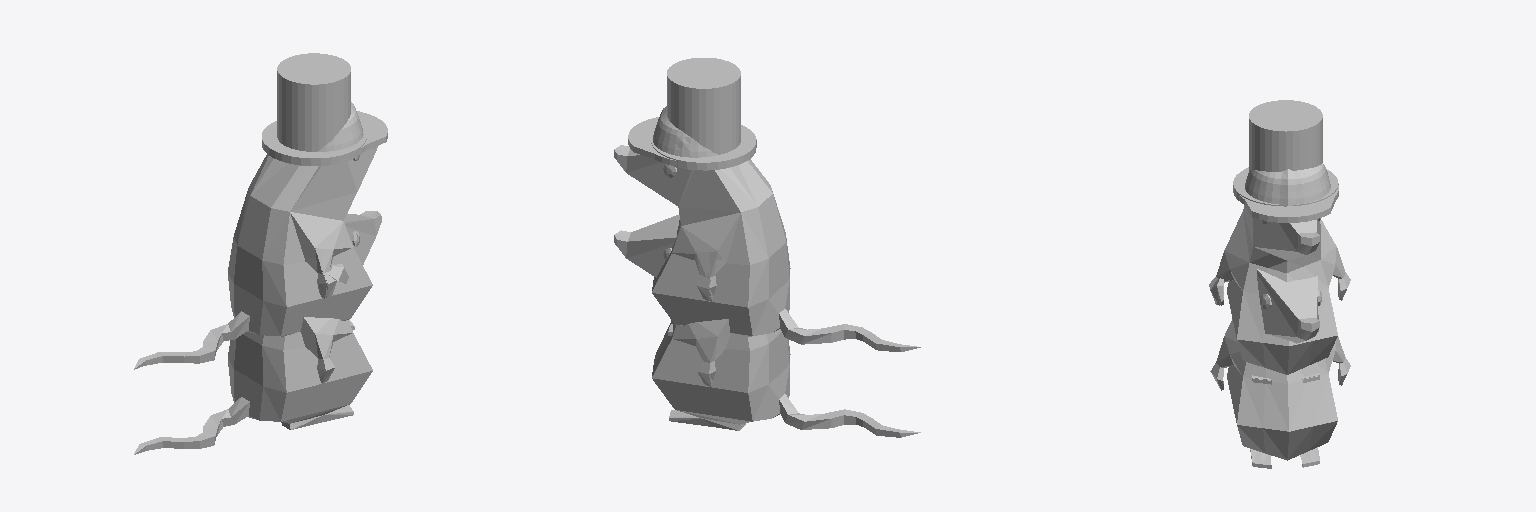
File: Rat.obj
3 views of the same model, side by side, from view 1: azimuth 30°, elevation 25°; view 2: azimuth 150°, elevation 25°; view 3: azimuth 270°, elevation 25° (orthographic).
Visible parts, largest first — view 1: Rat.007_buffer-0-mesh-0.075, Rat.001_buffer-0-mesh-0.001, Top_hat_Cylinder, Rat.005_buffer-0-mesh-0.016, Hard_hat_Circle, Hard_hat_bottom_Circle.001, Top_hat_Inner_cylinder_Cylinder.001; view 2: Rat.007_buffer-0-mesh-0.075, Rat.001_buffer-0-mesh-0.001, Top_hat_Cylinder, Rat.005_buffer-0-mesh-0.016, Hard_hat_Circle, Hard_hat_bottom_Circle.001; view 3: Rat.001_buffer-0-mesh-0.001, Rat.007_buffer-0-mesh-0.075, Top_hat_Cylinder, Hard_hat_Circle, Hard_hat_bottom_Circle.001, Rat.005_buffer-0-mesh-0.016.
Boxes of the visible parts, x1,y1,x2,y2 form: Rat.007_buffer-0-mesh-0.075: [134, 146, 376, 369]; Rat.001_buffer-0-mesh-0.001: [134, 211, 381, 454]; Top_hat_Cylinder: [262, 53, 366, 165]; Rat.005_buffer-0-mesh-0.016: [134, 145, 378, 368]; Hard_hat_Circle: [317, 102, 363, 151]; Hard_hat_bottom_Circle.001: [357, 111, 387, 154]; Top_hat_Inner_cylinder_Cylinder.001: [277, 125, 334, 151]; Rat.007_buffer-0-mesh-0.075: [617, 145, 907, 351]; Rat.001_buffer-0-mesh-0.001: [614, 215, 920, 437]; Top_hat_Cylinder: [651, 58, 756, 170]; Rat.005_buffer-0-mesh-0.016: [614, 146, 920, 351]; Hard_hat_Circle: [653, 106, 717, 157]; Hard_hat_bottom_Circle.001: [628, 117, 676, 166]; Rat.001_buffer-0-mesh-0.001: [1210, 269, 1350, 468]; Rat.007_buffer-0-mesh-0.075: [1224, 205, 1337, 374]; Top_hat_Cylinder: [1233, 100, 1338, 206]; Hard_hat_Circle: [1245, 163, 1330, 205]; Hard_hat_bottom_Circle.001: [1239, 185, 1338, 222]; Rat.005_buffer-0-mesh-0.016: [1217, 220, 1350, 292].
Bounding box in the file's own units: 12.95 × 15.21 × 5.76.